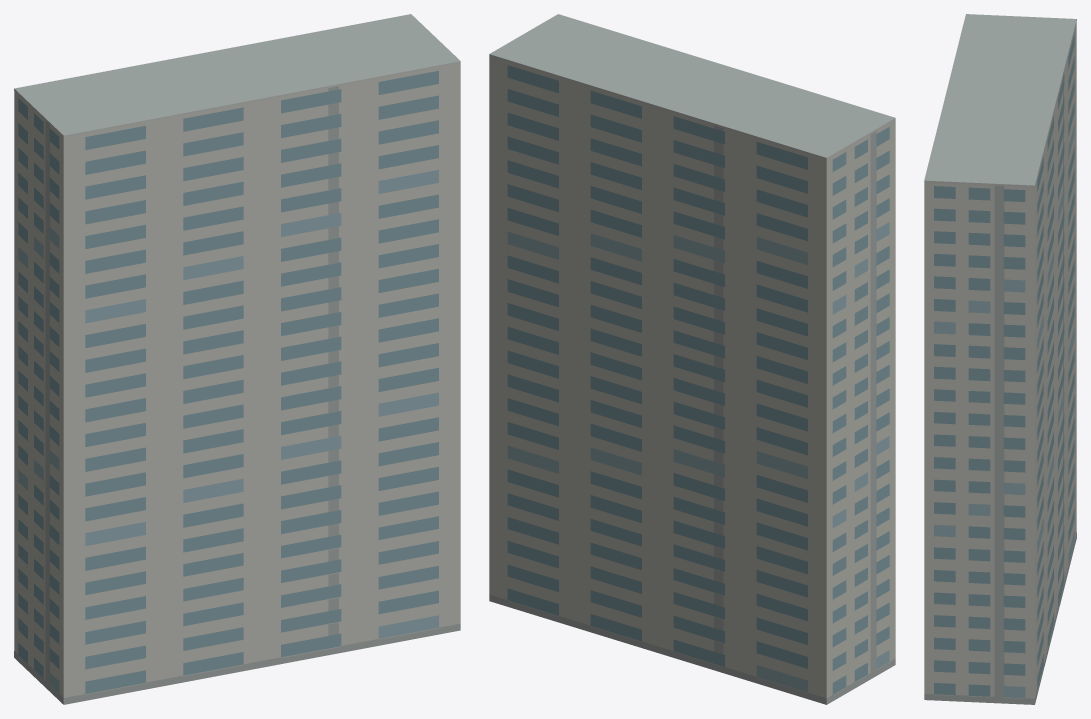
Rendered from residential-3f7d9512-b388-4393-96c0-03c83a7cc902.glb.
The picture shows the model from 3 angles, left to right: view 1: azimuth 30°, elevation 25°; view 2: azimuth 150°, elevation 25°; view 3: azimuth 270°, elevation 25°; orthographic projection. The views are drawn at different scales.
Parts seen in each view (by area): view 1: residential-3f7d9512-b388-4393-96c0-03c83a7cc902.tmp; view 2: residential-3f7d9512-b388-4393-96c0-03c83a7cc902.tmp; view 3: residential-3f7d9512-b388-4393-96c0-03c83a7cc902.tmp.
Part boxes in pixels (<box>): residential-3f7d9512-b388-4393-96c0-03c83a7cc902.tmp: <box>14,14,460,704</box>; residential-3f7d9512-b388-4393-96c0-03c83a7cc902.tmp: <box>489,14,895,704</box>; residential-3f7d9512-b388-4393-96c0-03c83a7cc902.tmp: <box>924,14,1076,704</box>.
Bounding box in the file's own units: 45.34 × 64 × 17.05.
